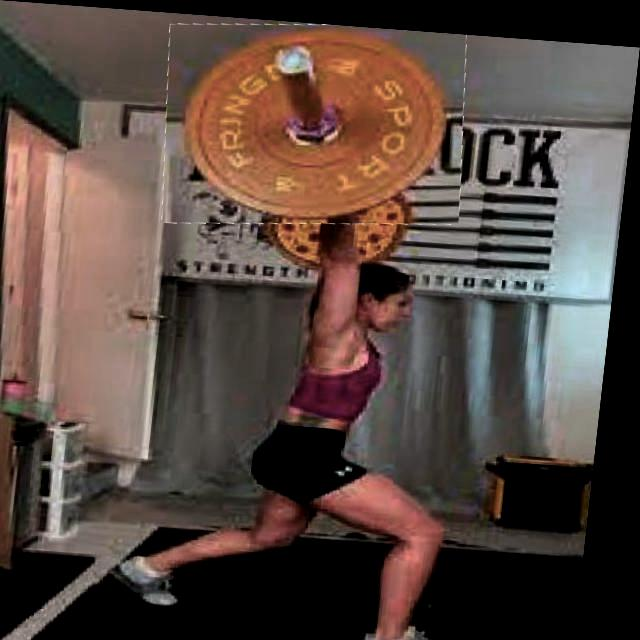barbell: (156, 11, 477, 232)
